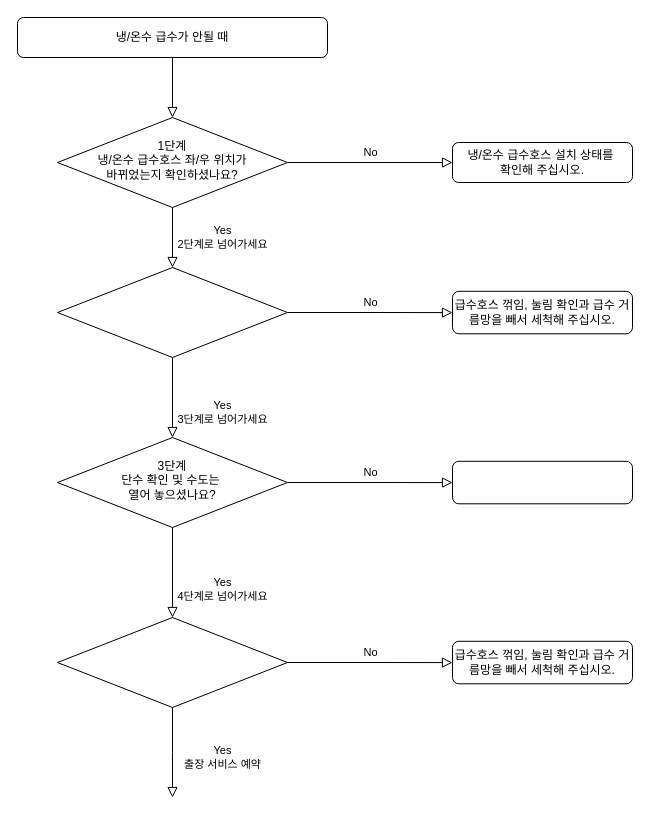
Some shapes in this 650 by 825 pixel diagram are drawn without their labels. The shapes that lost their labels are listed below. From the top down, each one's centre as x and y in pixels, then its label:
At pixel 172 312: "2단계 급수가 전혀 안 되나요?".
At pixel 542 482: "단수 확인 및 수도를 왼쪽으로 열어 주십시오.".
At pixel 172 662: "4단계 급수호스와 거름망에 이물질은 확인해보셨습니까?".
